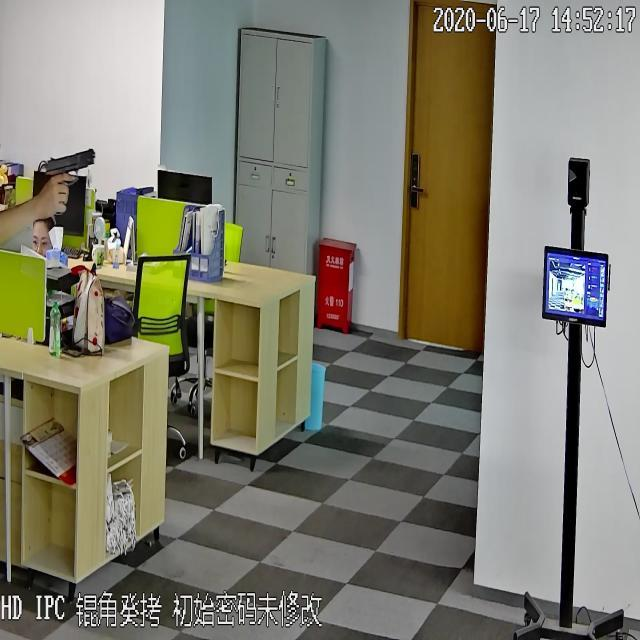gun-knife-thesis - v11 Yolov5 augmented: (44, 148, 100, 222)
